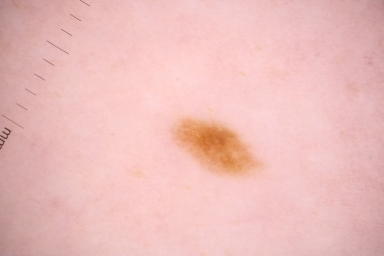melanoma: (164, 93, 266, 189)
